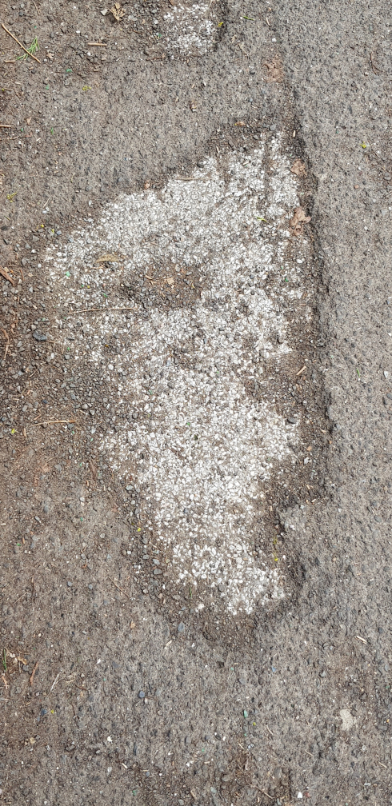pothole: (24, 93, 342, 654), (135, 1, 232, 64)
